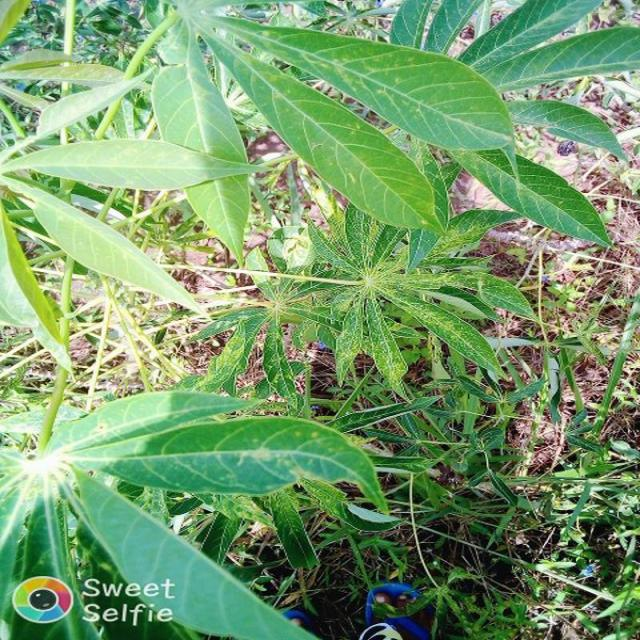cassava leaf: (192, 16, 450, 237), (64, 462, 321, 638), (44, 388, 390, 514)
